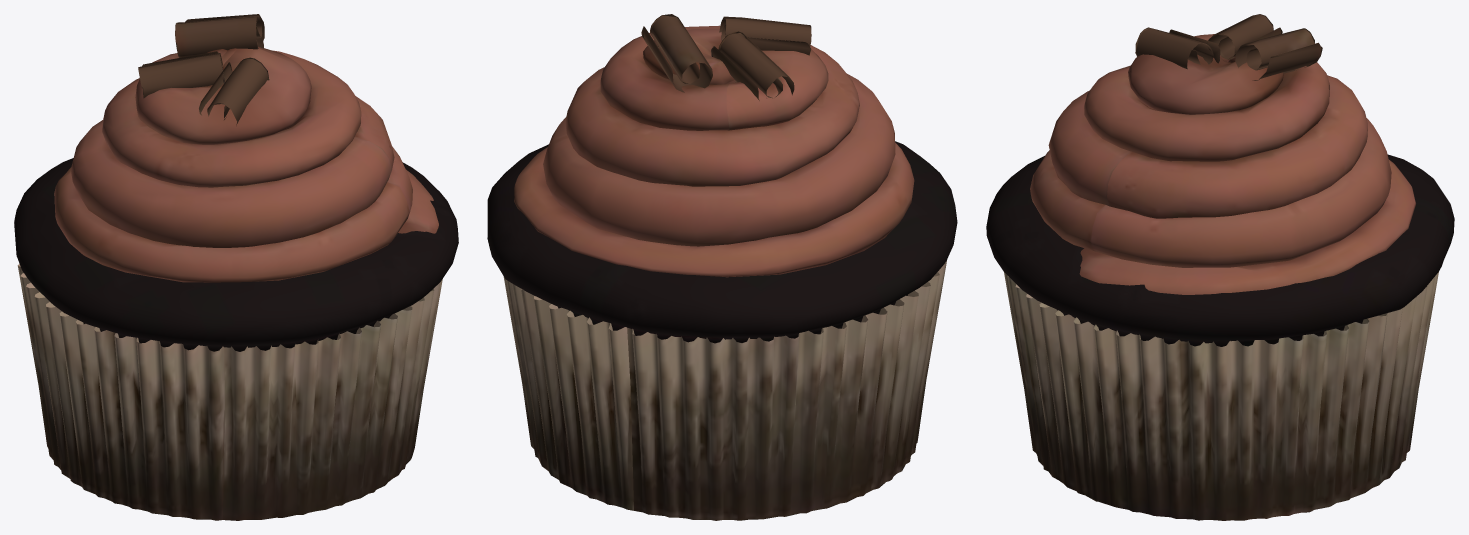
Rendered from food_prepared_cupcake_d01.glb.
3 views of the same model, side by side, from view 1: azimuth 30°, elevation 25°; view 2: azimuth 150°, elevation 25°; view 3: azimuth 270°, elevation 25° (orthographic). The views are drawn at different scales.
Parts seen in each view (by area): view 1: part0; view 2: part0; view 3: part0.
Boxes of the visible parts, x1,y1,x2,y2 form: part0: [14, 14, 458, 520]; part0: [487, 14, 957, 520]; part0: [986, 14, 1454, 520].
Size of the model in its own units: 0.0645 by 0.0655 by 0.0664.
Materials: 1 (1 with a texture image).
